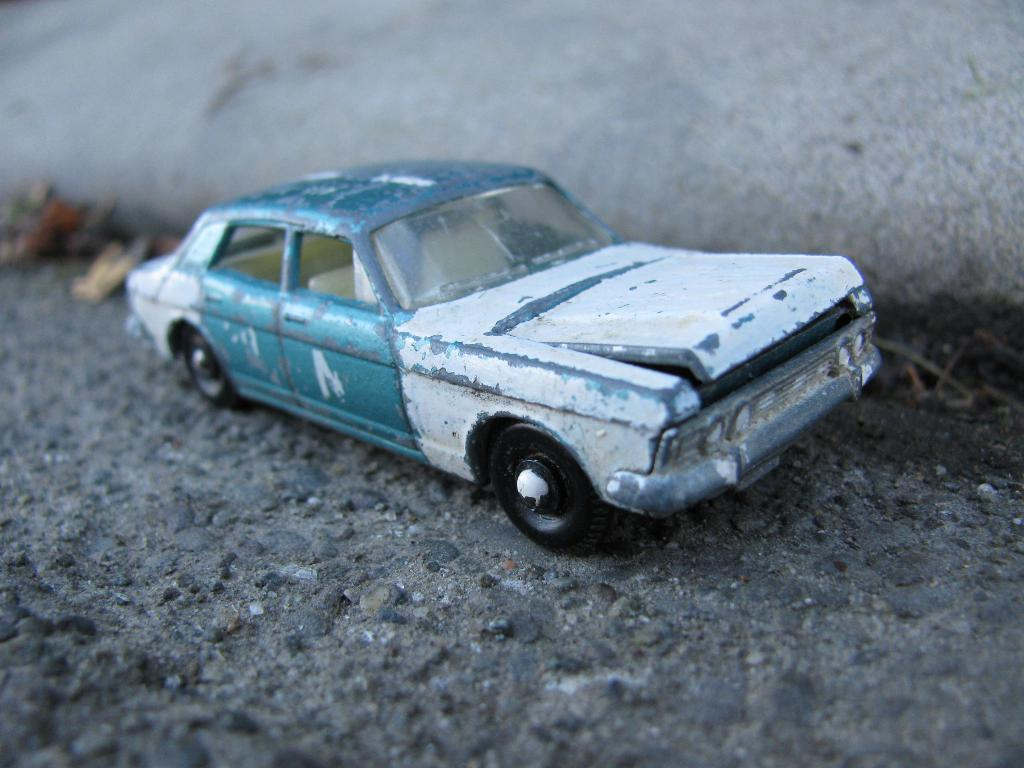Car: (152, 165, 869, 540)
